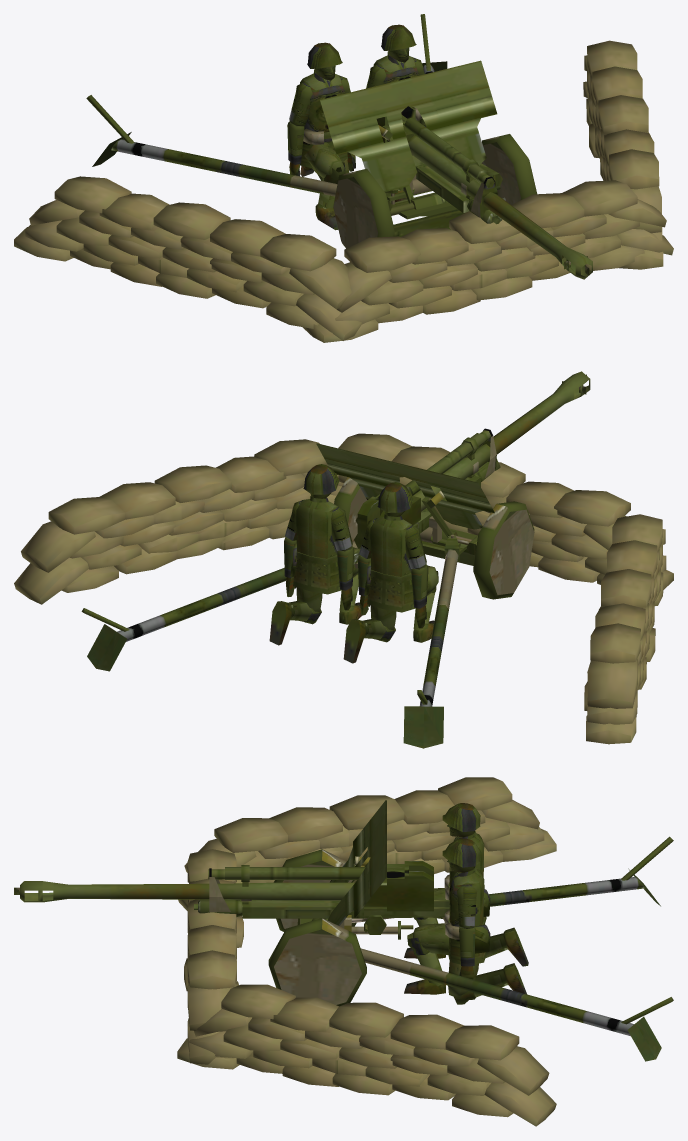
Rendered from RUSZiS3_Stationary.dae.
3 renders of one model, top to bottom at view 1: azimuth 30°, elevation 25°; view 2: azimuth 150°, elevation 25°; view 3: azimuth 270°, elevation 25°, orthographic.
Visible parts, largest first — view 1: base, carriage, barrel, sleeve, torso1, head2, head1, torso2, rthigh1, rloarm1, ruparm1; view 2: base, carriage, barrel, torso2, torso1, sleeve, head2, head1, rloarm2, rloarm1, ruparm2, ruparm1 (+2 smaller); view 3: base, carriage, barrel, sleeve, torso2, head2, head1, rthigh2, luparm2, lloarm2, torso1, rleg2 (+1 smaller).
Boxes of the visible parts, x1,y1,x2,y2 form: base: (14,40,673,342); carriage: (86,14,537,248); barrel: (376,105,592,279); sleeve: (403,117,502,224); torso1: (300,69,347,168); head2: (381,24,416,62); head1: (307,42,342,80); torso2: (373,51,421,122); rthigh1: (304,142,344,177); rloarm1: (287,121,304,176); ruparm1: (289,82,312,126); base: (14,433,673,744); carriage: (81,443,534,748); barrel: (357,371,590,544); torso2: (290,496,341,594); torso1: (364,514,415,612); sleeve: (353,428,500,568); head2: (303,464,339,498); head1: (377,482,413,516); rloarm2: (337,546,354,610); rloarm1: (411,564,428,628); ruparm2: (331,507,352,551); ruparm1: (405,525,426,569); base: (177,777,556,1126); carriage: (268,800,673,1061); barrel: (20,861,433,911); sleeve: (194,865,449,939); torso2: (444,866,490,964); head2: (442,838,480,872); head1: (442,803,480,837); rthigh2: (413,923,448,955); luparm2: (457,885,477,928); lloarm2: (459,926,475,979); torso1: (444,831,490,924); rleg2: (407,933,442,986).
Bounding box in the file's own units: 46.2 × 43.61 × 11.86.
